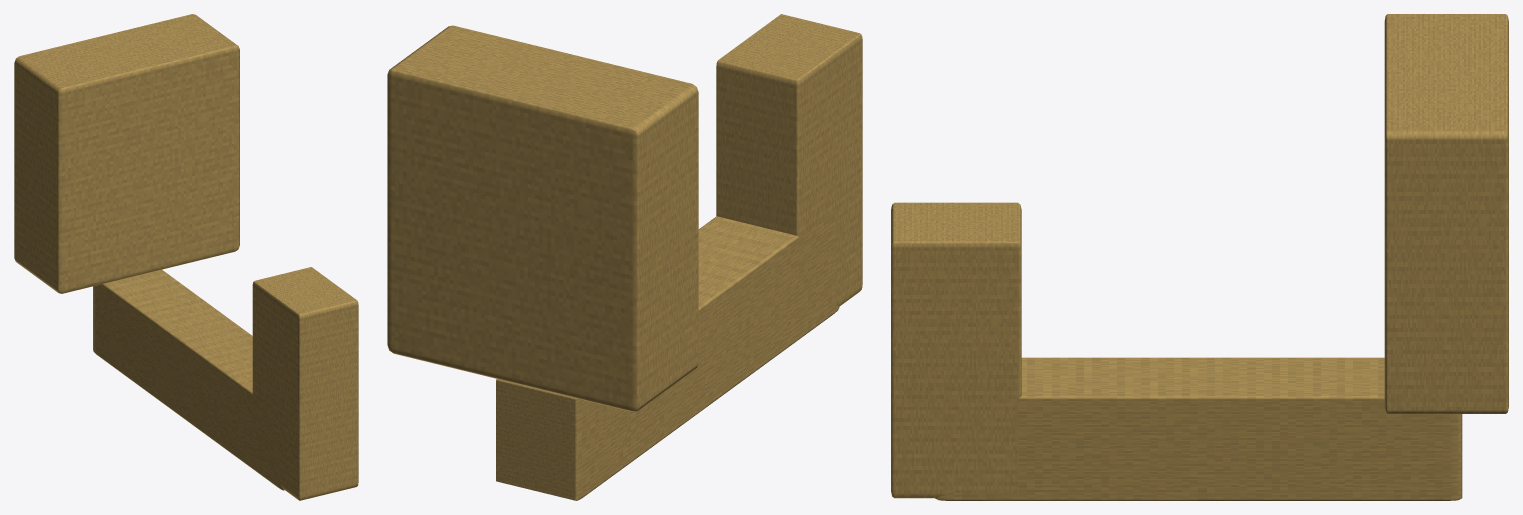
Rendered from bib.glb.
3 views of the same model, side by side, from view 1: azimuth 30°, elevation 25°; view 2: azimuth 150°, elevation 25°; view 3: azimuth 270°, elevation 25° (orthographic). The views are drawn at different scales.
Visible parts, largest first — view 1: foot, arm, lip; view 2: foot, arm, lip; view 3: arm, foot, lip.
Part boxes in pixels (x1,y1,x2,y2): foot: (14,14,239,293); arm: (93,269,284,490); lip: (252,267,358,500); foot: (387,25,698,411); arm: (496,212,839,500); lip: (716,14,862,327); arm: (935,357,1462,500); foot: (1384,14,1508,413); lip: (891,202,1021,498).
Bounding box in the file's own units: 0.07 × 0.1092 × 0.1492.
Materials: 1 (1 with a texture image).
